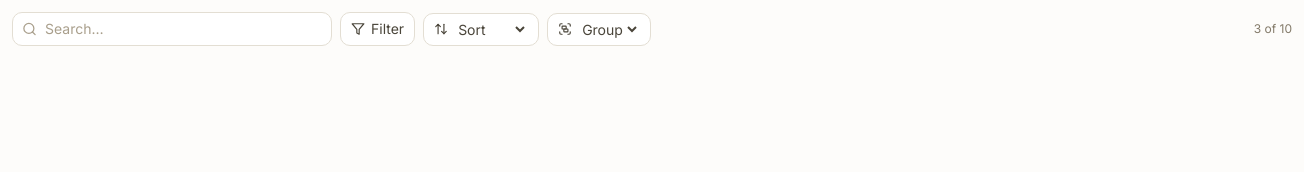
filters › resets the operator when switching to a column that does not support it
Click the button "Filter" at (378, 29), box [340, 12, 415, 46]
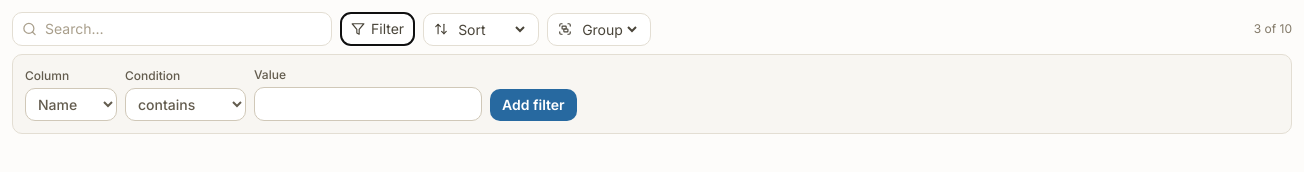
Select "Flagged" in the dropdown named "Filter column" at (71, 104), box [25, 88, 117, 121]
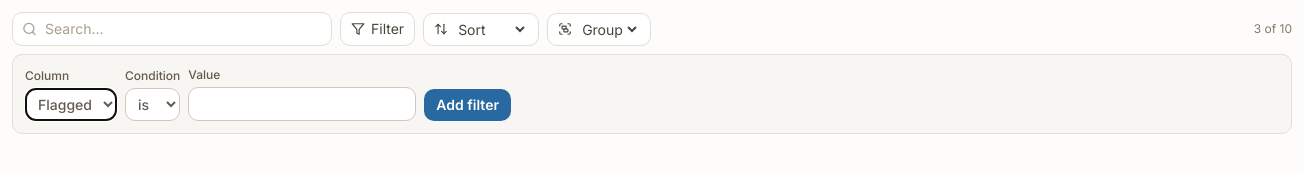
Result: the dropdown named "Filter condition" shows "is" at [125, 88, 180, 121]
